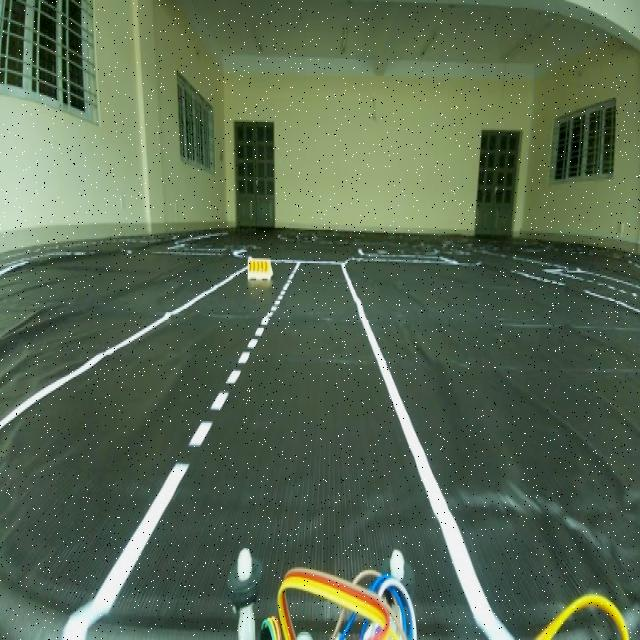roadblock: (239, 251, 283, 294)
